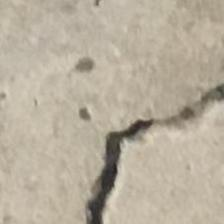Crack: (61, 87, 224, 224)
